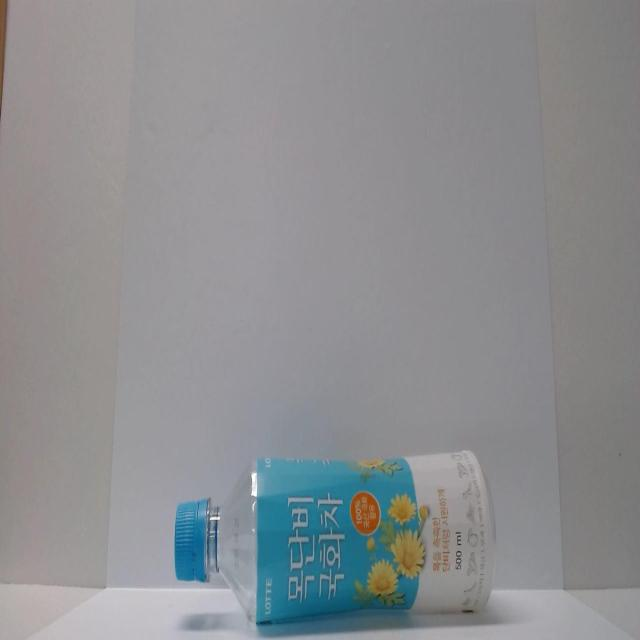bottle: (168, 443, 510, 627)
